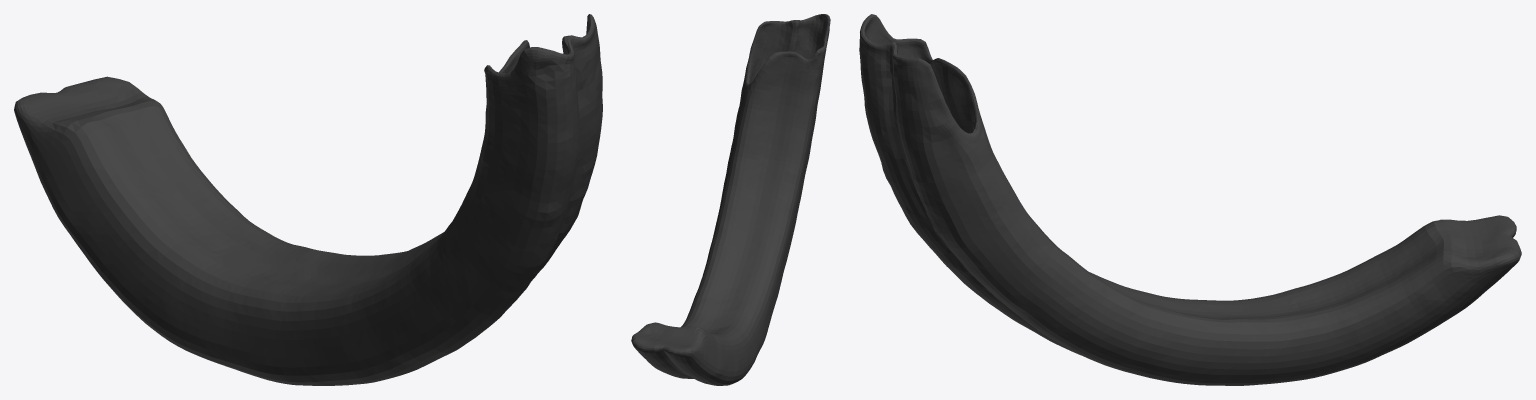
Rendered from tooth_rabbit_201_low.glb.
The picture shows the model from 3 angles, left to right: view 1: azimuth 30°, elevation 25°; view 2: azimuth 150°, elevation 25°; view 3: azimuth 270°, elevation 25°; orthographic projection. The views are drawn at different scales.
Parts seen in each view (by area): view 1: tooth_rabbit_201_low; view 2: tooth_rabbit_201_low; view 3: tooth_rabbit_201_low.
Part boxes in pixels (x1=…): tooth_rabbit_201_low: x1=14, y1=14, x2=602, y2=385; tooth_rabbit_201_low: x1=631, y1=14, x2=830, y2=385; tooth_rabbit_201_low: x1=859, y1=14, x2=1521, y2=385.
Bounding box in the file's own units: 0.5819 × 1.09 × 1.72.
1 material, 1 textured.
